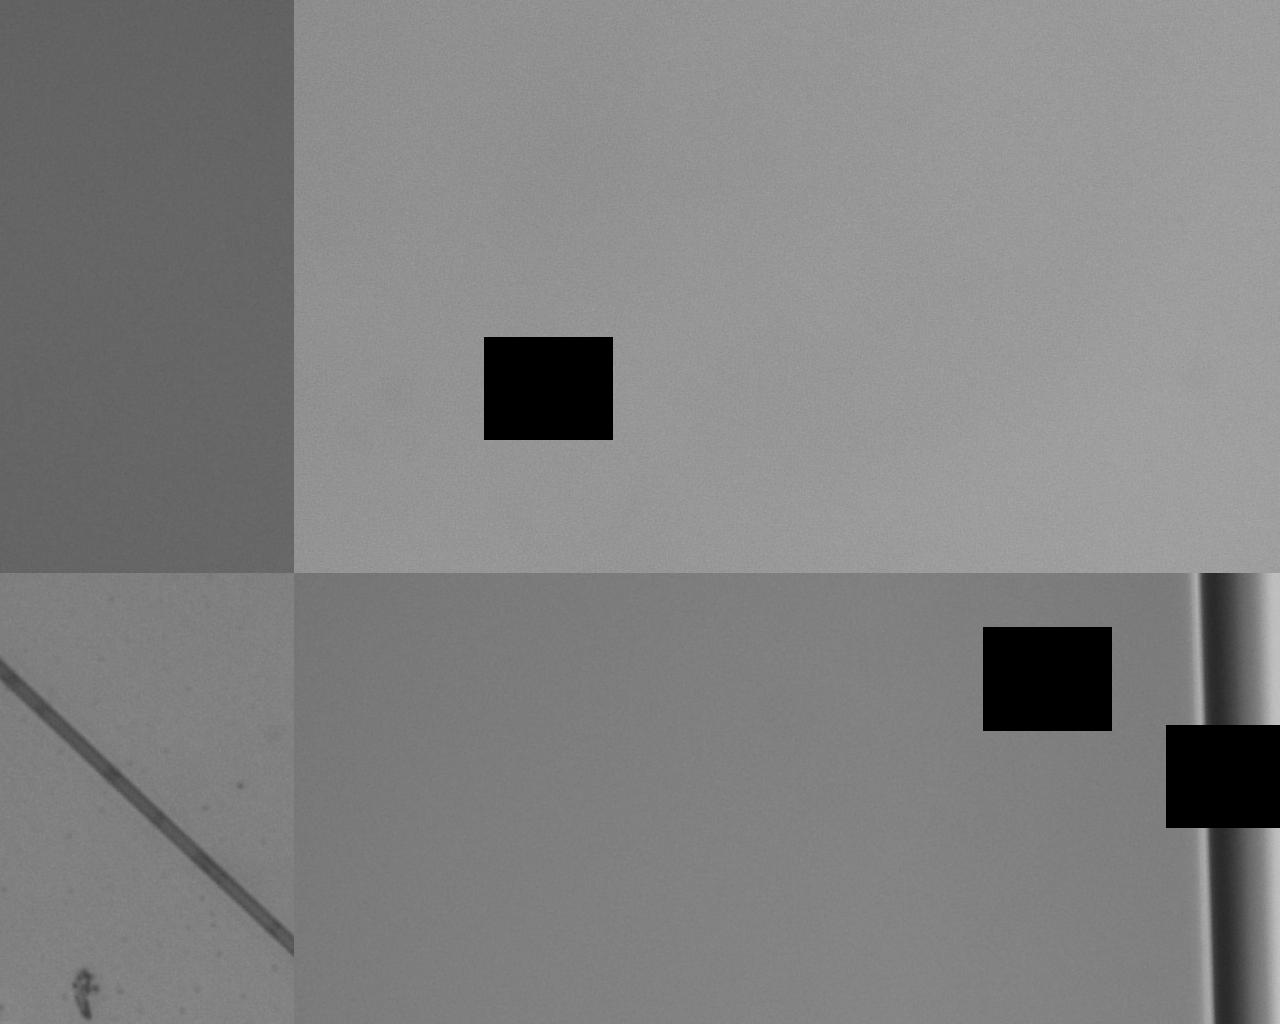fiber: (0, 518, 704, 790), (1000, 327, 1280, 626), (101, 168, 704, 271)
